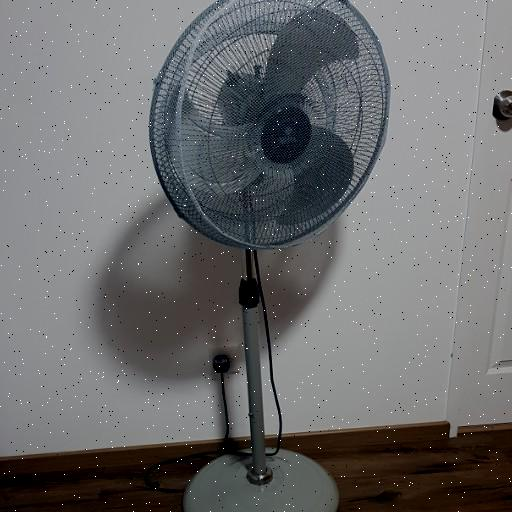Fan: (146, 0, 390, 247)
